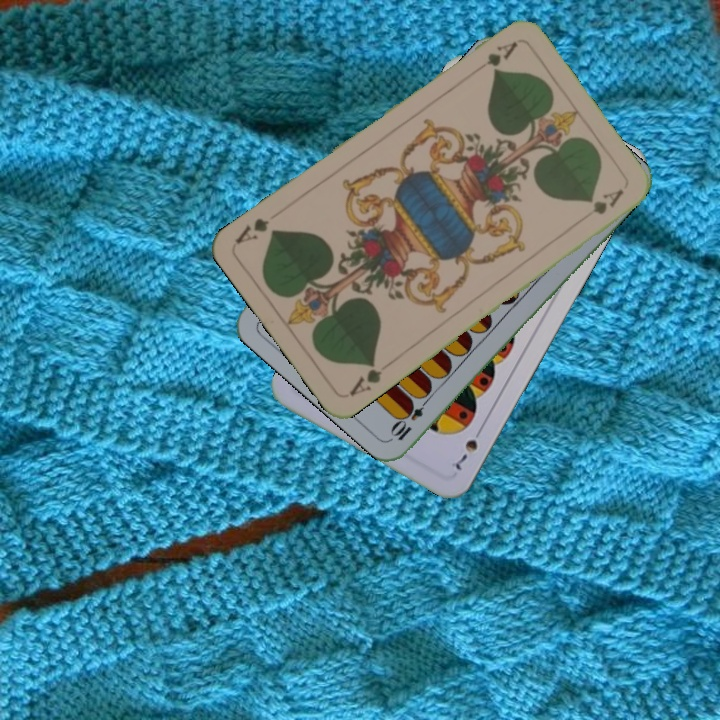E10: (388, 391, 433, 444)
GA: (468, 37, 521, 77), (345, 356, 394, 399)
S7: (451, 422, 486, 473)
